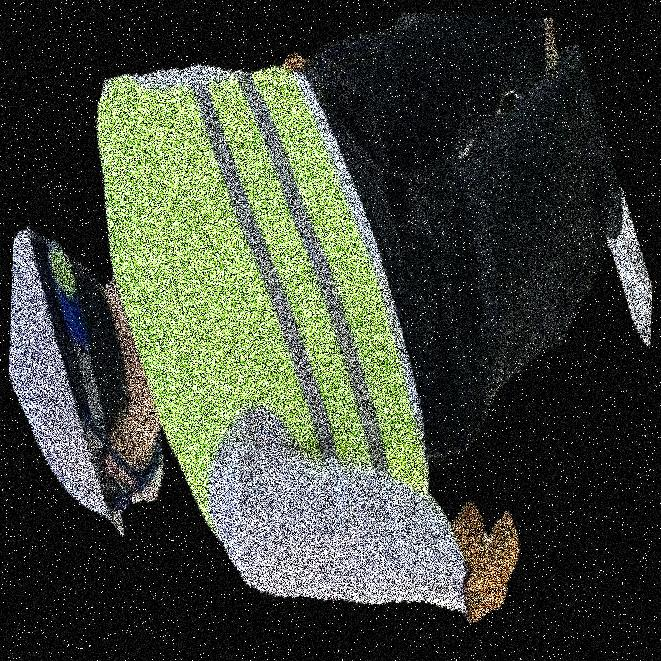Pessoa: (140, 0, 491, 660)
